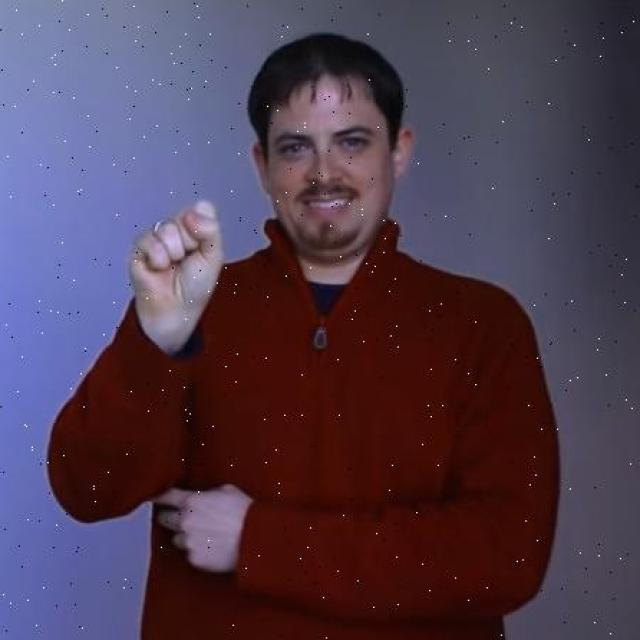S: (124, 195, 228, 330)
